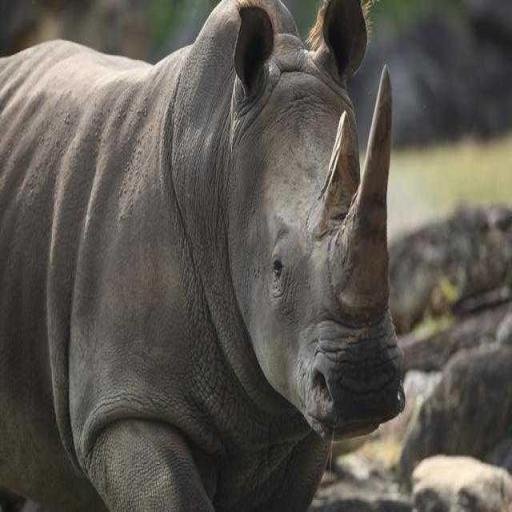Rhino: (0, 0, 405, 510)
